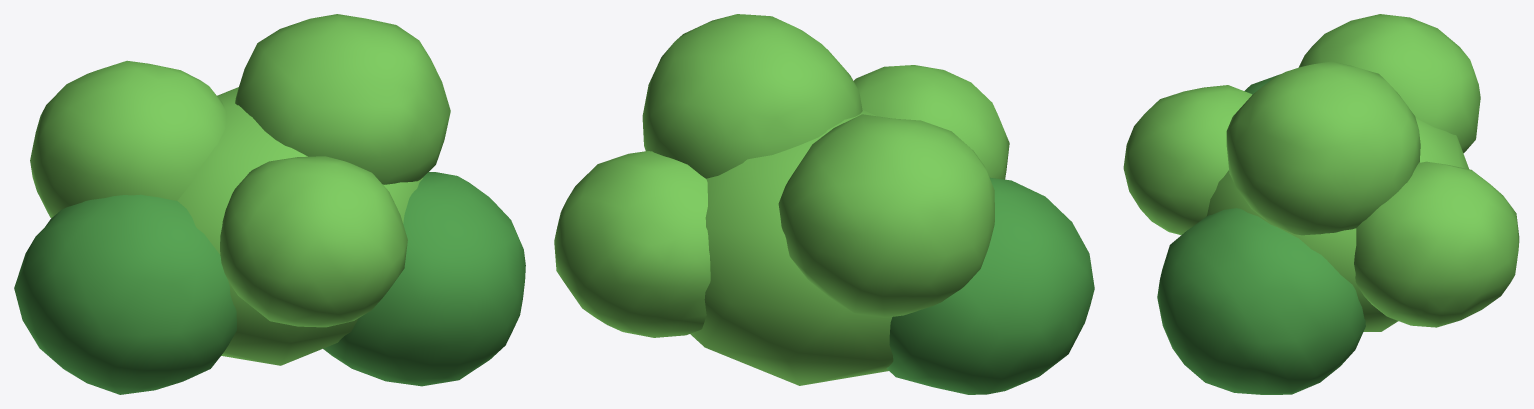
File: prop_bush.glb
The picture shows the model from 3 angles, left to right: view 1: azimuth 30°, elevation 25°; view 2: azimuth 150°, elevation 25°; view 3: azimuth 270°, elevation 25°; orthographic projection. The views are drawn at different scales.
Visible parts, largest first — view 1: prop_bush; view 2: prop_bush; view 3: prop_bush.
Part boxes in pixels (box(x1,y1,x2,y2)): prop_bush: box(14, 14, 525, 394); prop_bush: box(554, 14, 1094, 394); prop_bush: box(1123, 14, 1519, 394).
Size of the model in its own units: 1.13 by 0.7973 by 0.9599.
